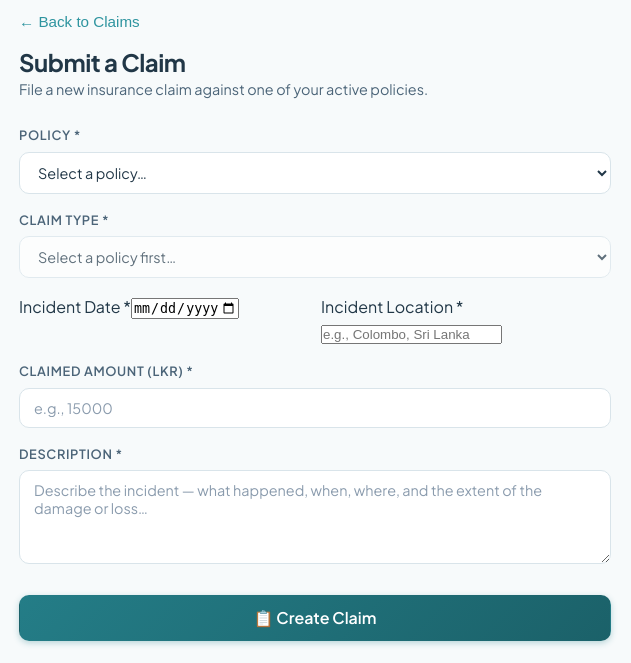
ClaimCreate Compatibility & Safety Tests › auto-selects Motor (8) when Motor Insurance policy is selected
Select "POL-MTR-001 — Motor Insurance (Coverage: LKR 500,000.00)" in the dropdown labelled "Policy *" at (315, 172), box [19,152,611,194]
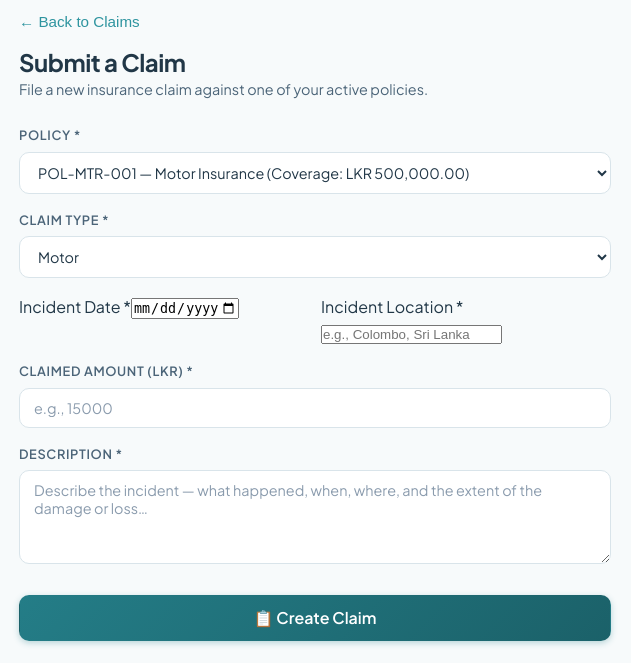
Result: the dropdown labelled "Claim Type *" shows "Motor" at [19,236,611,278]
